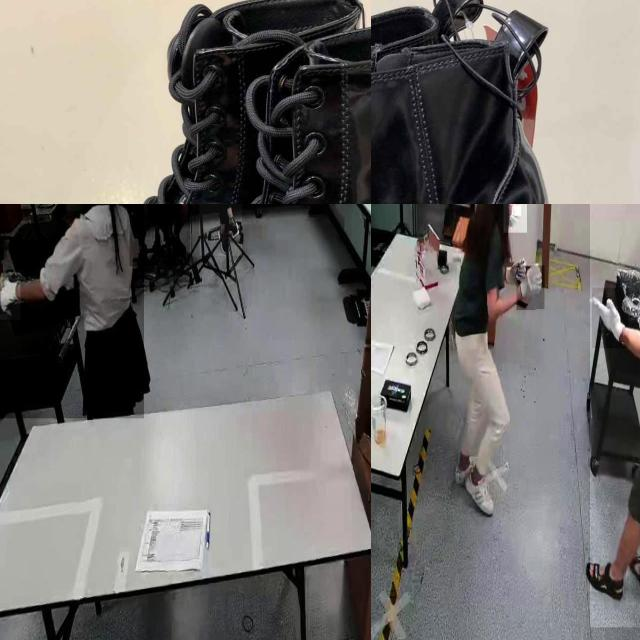Sandals: (0, 0, 371, 204), (371, 0, 606, 204)
face_mask: (503, 204, 526, 232)
hand_glove: (592, 288, 628, 348), (517, 266, 545, 310), (0, 277, 21, 320)
person: (0, 204, 144, 419), (447, 204, 536, 504), (590, 204, 640, 628), (129, 204, 190, 266), (199, 204, 242, 256)
shoes: (464, 461, 496, 515), (216, 222, 230, 260), (227, 212, 241, 242)
